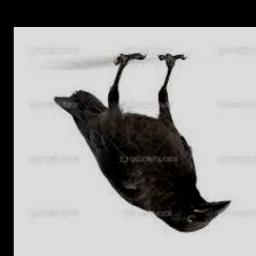Crow: (54, 53, 231, 233)
